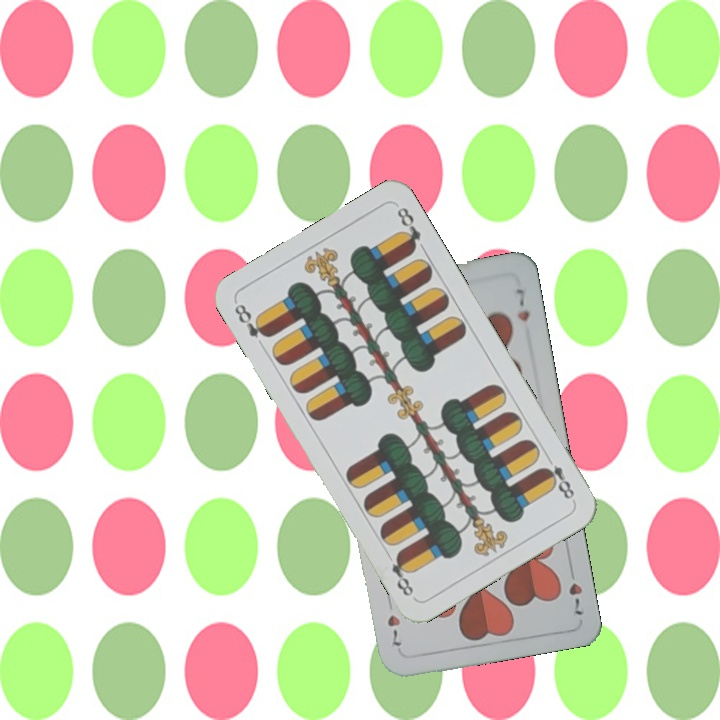E8: (538, 450, 577, 502), (230, 299, 273, 341)
H7: (564, 561, 586, 618)
